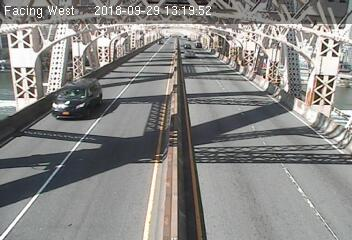car: (48, 77, 105, 120)
